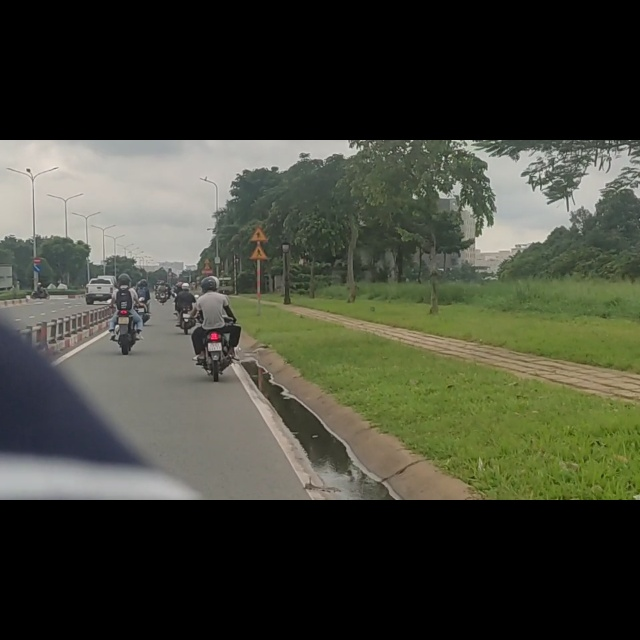bien_nguy_hiem: (249, 185, 268, 215), (250, 154, 269, 180), (33, 220, 42, 236), (33, 209, 41, 222)
